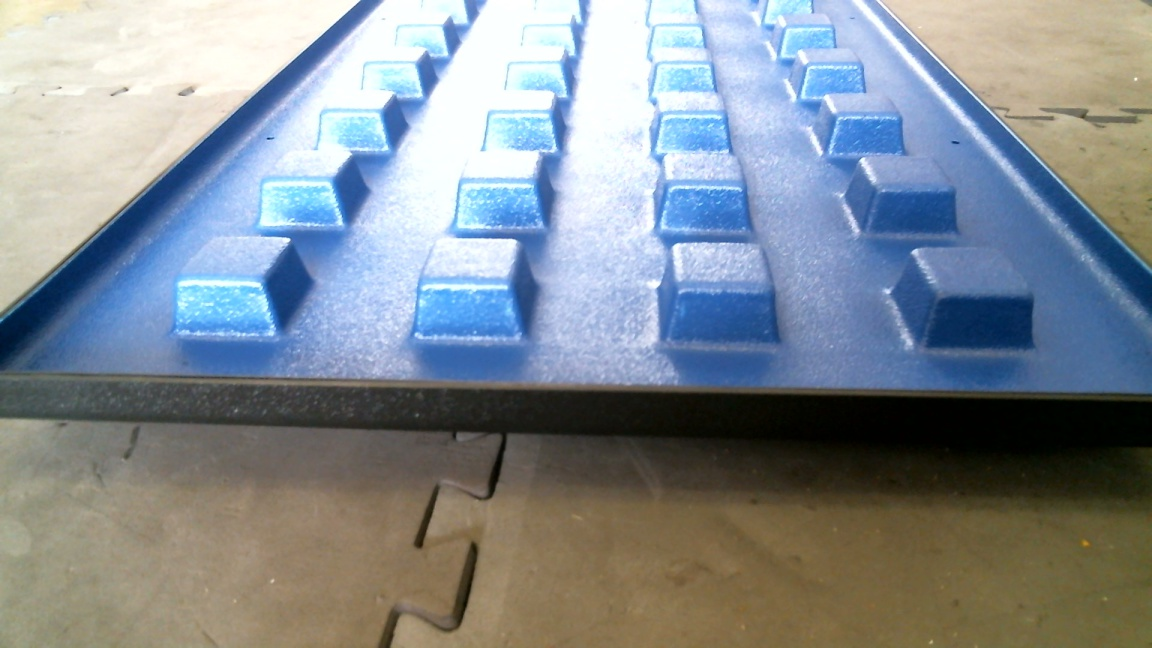blue_foundation: (1, 8, 1152, 418)
